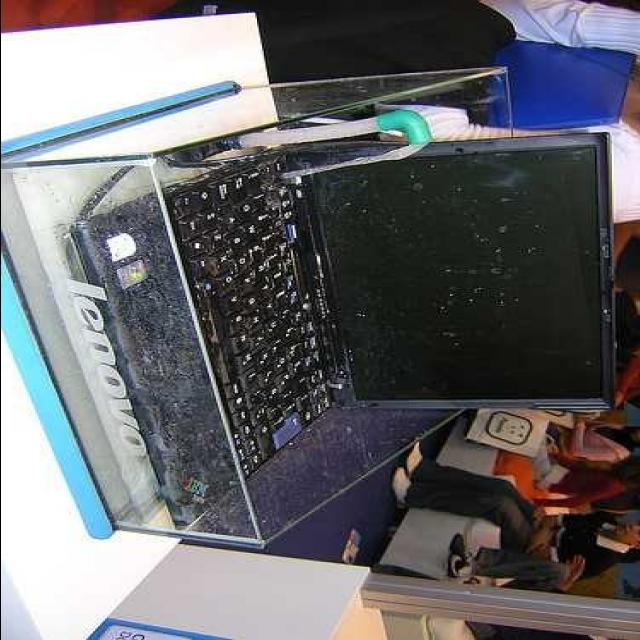laptop: (133, 133, 604, 507)
